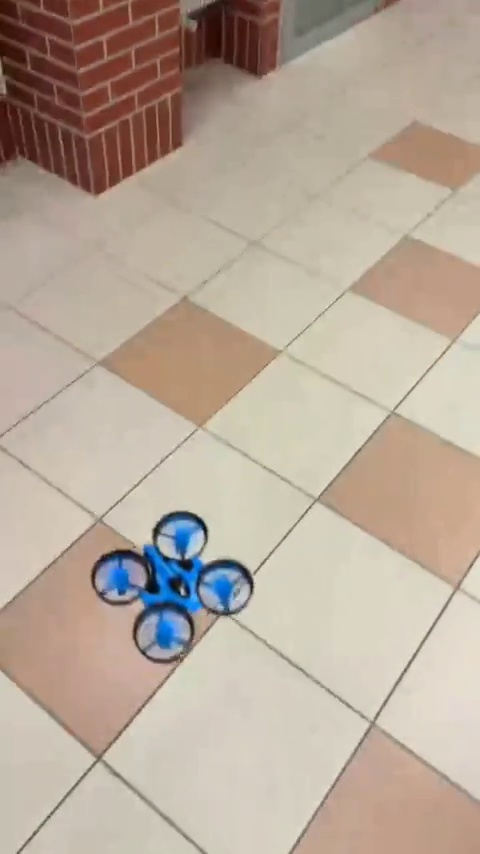drone: (80, 512, 257, 656)
